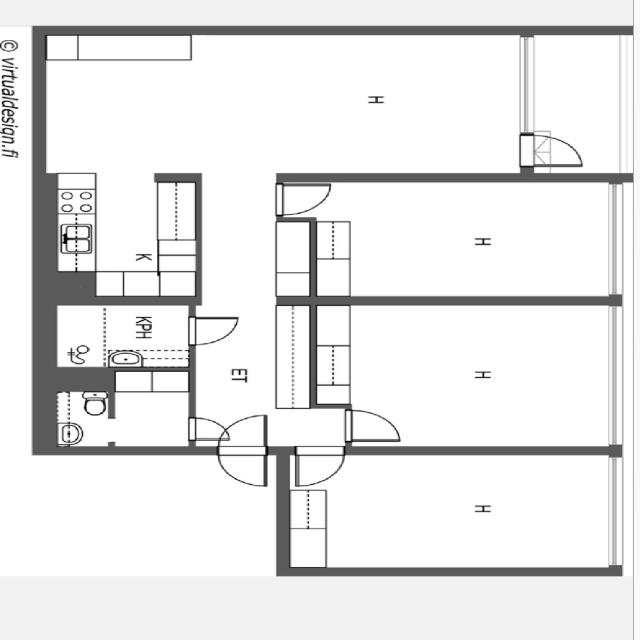door: (214, 414, 272, 488), (275, 181, 336, 219), (293, 446, 346, 489), (344, 406, 406, 442), (524, 134, 588, 166), (184, 313, 244, 347), (187, 416, 230, 441)
window: (595, 302, 639, 446), (595, 453, 638, 568), (597, 182, 638, 298), (513, 36, 545, 136)
zone: (43, 35, 524, 175), (338, 302, 615, 452), (290, 450, 614, 570), (318, 181, 614, 300), (195, 572, 631, 640), (192, 300, 320, 450), (55, 177, 198, 297), (528, 31, 632, 173), (36, 371, 193, 449), (57, 304, 193, 368), (315, 345, 350, 387)
